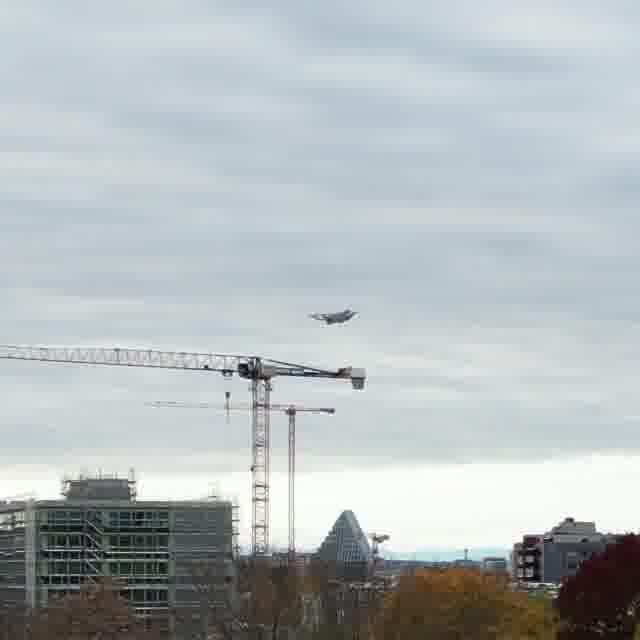Drohne: (309, 309, 357, 324)
